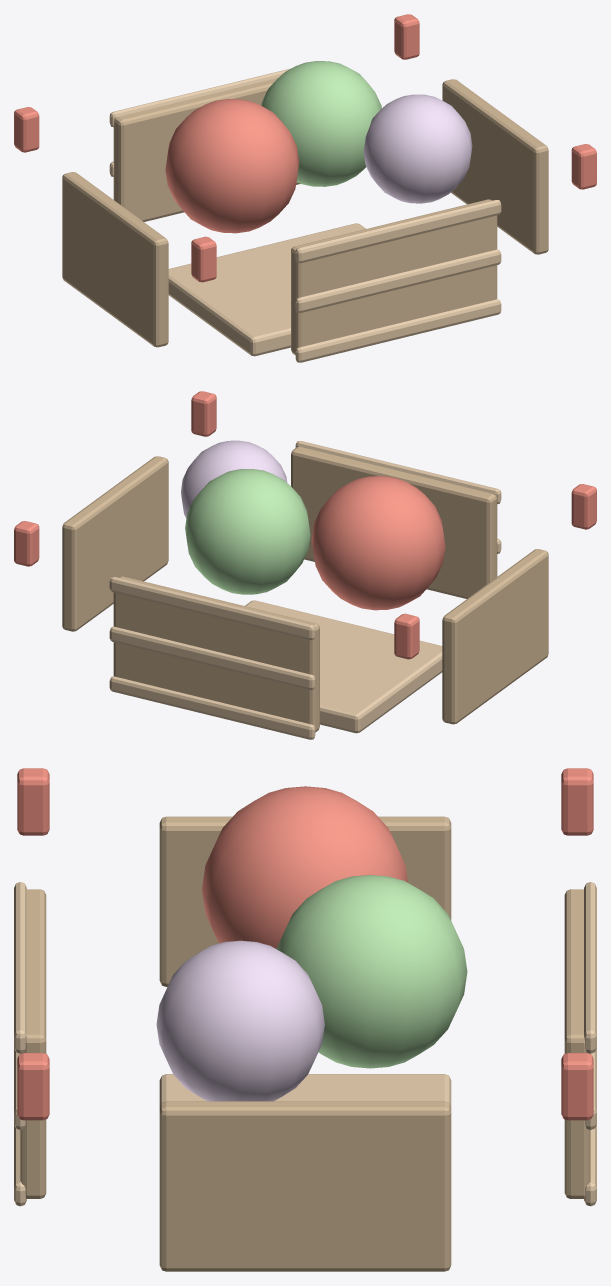
The model's file is SM_IngredientCrate.glb.
3 views of the same model, one above another, from view 1: azimuth 30°, elevation 25°; view 2: azimuth 150°, elevation 25°; view 3: azimuth 270°, elevation 25° (orthographic). The views are drawn at different scales.
Parts seen in each view (by area): view 1: SM_IngredientCrate; view 2: SM_IngredientCrate; view 3: SM_IngredientCrate.
Part boxes in pixels (x1,y1,x2,y2): SM_IngredientCrate: (14,14,596,362); SM_IngredientCrate: (14,391,596,739); SM_IngredientCrate: (14,768,596,1271).
Bounding box in the file's own units: 1.09 × 0.555 × 0.9.
